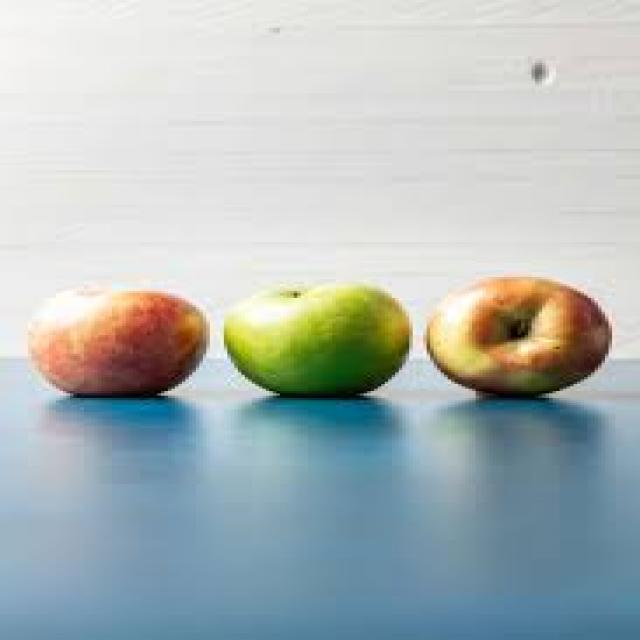Apple: (222, 284, 413, 398), (28, 284, 208, 399), (425, 283, 610, 393)
